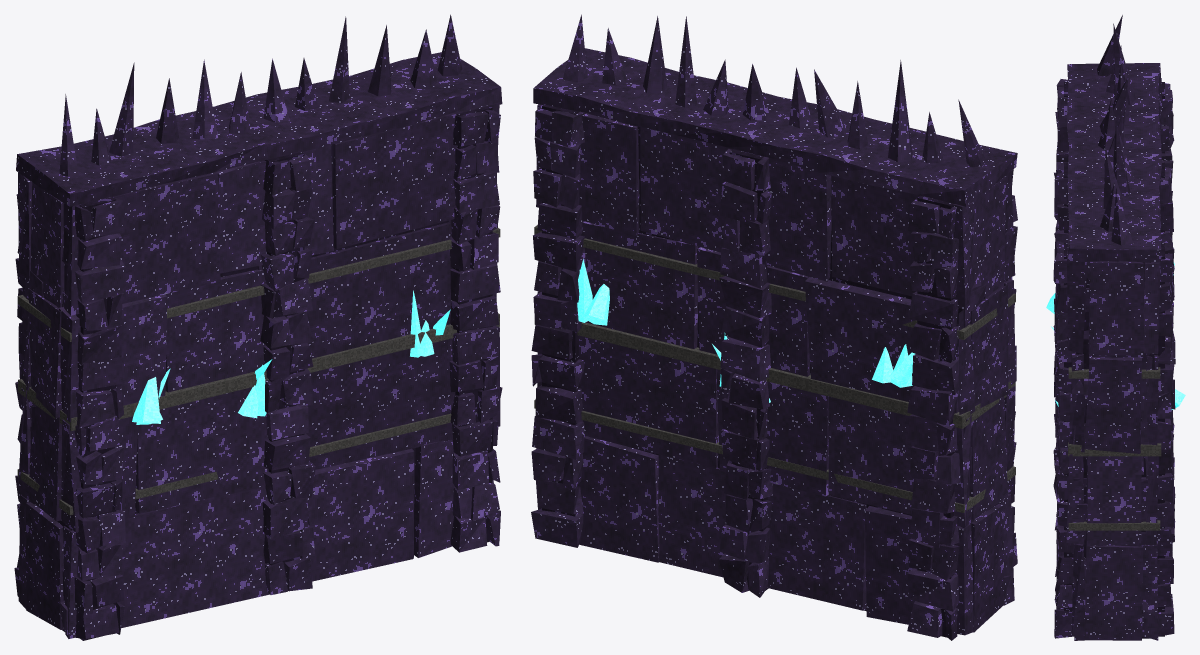
File: muro_obsidiana_gigante.glb
3 renders of one model, left to right at view 1: azimuth 30°, elevation 25°; view 2: azimuth 150°, elevation 25°; view 3: azimuth 270°, elevation 25°, orthographic. The views are drawn at different scales.
Parts seen in each view (by area): view 1: muro_obsidiana_gigante_obsidiana, muro_obsidiana_gigante_ferro, muro_obsidiana_gigante_cristal; view 2: muro_obsidiana_gigante_obsidiana, muro_obsidiana_gigante_ferro, muro_obsidiana_gigante_cristal; view 3: muro_obsidiana_gigante_obsidiana, muro_obsidiana_gigante_ferro, muro_obsidiana_gigante_cristal.
Part boxes in pixels (x1,y1,x2,y2): muro_obsidiana_gigante_obsidiana: [14, 14, 502, 640]; muro_obsidiana_gigante_ferro: [17, 228, 500, 515]; muro_obsidiana_gigante_cristal: [132, 290, 450, 424]; muro_obsidiana_gigante_obsidiana: [531, 14, 1017, 640]; muro_obsidiana_gigante_ferro: [534, 225, 1015, 512]; muro_obsidiana_gigante_cristal: [577, 259, 915, 402]; muro_obsidiana_gigante_obsidiana: [1053, 15, 1175, 640]; muro_obsidiana_gigante_ferro: [1068, 367, 1161, 530]; muro_obsidiana_gigante_cristal: [1046, 262, 1185, 409].
Size of the model in its own units: 9.2 by 10.86 by 2.9.
Materials: 3 (3 with a texture image).
